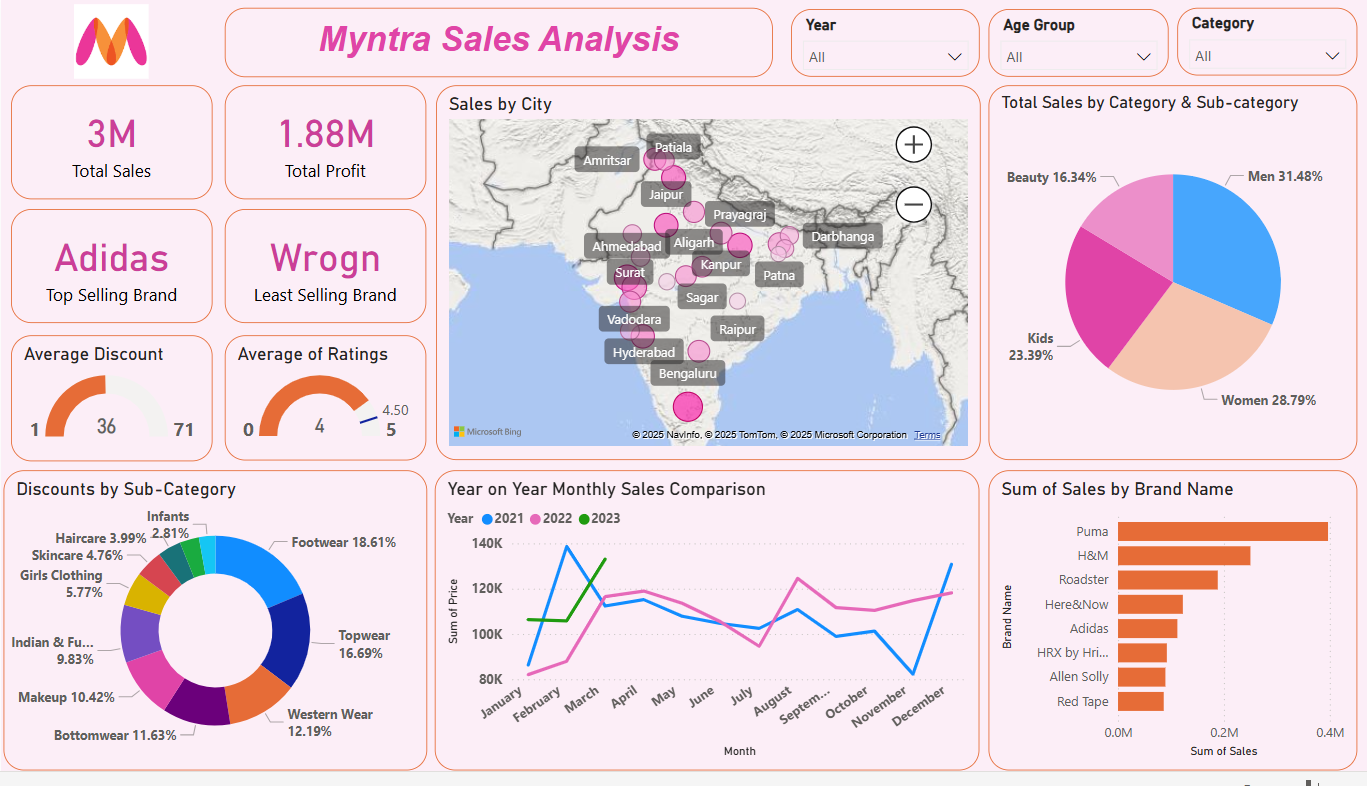

What the dashboard file says about the page in this screenshot:
{"tool":"powerbi","page":{"name":"Myntra Sales Analysis Dashboard","canvas":[1280,720],"ordinal":0},"visuals":[{"type":"image","box":[10.8,0,184.2,79.3],"z":0},{"type":"textbox","box":[208.4,8.1,511,64.6],"z":1000},{"type":"slicer","fields":{"Values":["Date.Year"]},"box":[737,9.4,176.2,63.2],"z":2000},{"type":"slicer","fields":{"Values":["Customers.Age Group"]},"box":[921.2,9.4,168.1,63.2],"z":3000},{"type":"cardVisual","fields":{"Data":["Sum(Orders.Price)"]},"box":[9.4,80.7,188.3,106.2],"z":4000},{"type":"cardVisual","fields":{"Data":["measures (2).Total Profit"]},"box":[208.4,80.7,188.3,106.2],"z":5000},{"type":"cardVisual","fields":{"Data":["Min(Products.Brand Name)"]},"box":[9.4,196.3,188.3,106.2],"z":6000},{"type":"cardVisual","fields":{"Data":["Max(Products.Brand Name)"]},"box":[208.4,196.3,188.3,106.2],"z":7000},{"type":"slicer","fields":{"Values":["Products.Category"]},"box":[1097.4,8.1,168.1,63.2],"z":8000},{"type":"pieChart","title":"Total Sales by Category & Sub-category","fields":{"Category":["Products.Category","Products.Sub-category"],"Y":["Sum(Orders.Price)"]},"box":[921.2,80.7,344.3,349.7],"z":9000},{"type":"gauge","fields":{"Y":["Avg(Products.Ratings)"]},"box":[208.4,313.3,188.3,117],"z":10000},{"type":"map","title":"Sales by City","fields":{"Category":["Customers.City"],"Size":["Sum(Orders.Price)"]},"box":[405.3,80.7,507.8,349.7],"z":11000},{"type":"donutChart","title":"Discounts by Sub-Category","fields":{"Category":["Products.Sub-category"],"Y":["Sum(Orders.Discount%)"]},"box":[2.7,439.8,395.4,279.7],"z":12000},{"type":"barChart","fields":{"Category":["Products.Brand Name","Products.Product Name"],"Y":["Sum(Orders.Price)"]},"box":[921.2,439.8,344.3,279.7],"z":13000},{"type":"lineChart","title":"Year on Year Monthly Sales Comparison","fields":{"Category":["Date.Date.Variation.Date Hierarchy.Year","Date.Date.Variation.Date Hierarchy.Month"],"Y":["Sum(Orders.Price)"],"Series":["Date.Date.Variation.Date Hierarchy.Year"]},"box":[404.8,439.8,508.3,279.7],"z":14000},{"type":"gauge","fields":{"Y":["measures (2).Average Discount"]},"box":[9.8,313,188.3,117.4],"z":15000}]}

Visuals, with their boxes in screenshot pixels (x1, y1, x2, y2), scaled from the page's 1280x720 canvas onto the 1367x786 screenshot:
image: <box>12,0,208,87</box>
textbox: <box>223,9,768,79</box>
slicer - Date.Year: <box>787,10,975,79</box>
slicer - Customers.Age Group: <box>984,10,1163,79</box>
cardVisual - Sum(Orders.Price): <box>10,88,211,204</box>
cardVisual - measures (2).Total Profit: <box>223,88,424,204</box>
cardVisual - Min(Products.Brand Name): <box>10,214,211,330</box>
cardVisual - Max(Products.Brand Name): <box>223,214,424,330</box>
slicer - Products.Category: <box>1172,9,1352,78</box>
"Total Sales by Category & Sub-category" pieChart: <box>984,88,1352,470</box>
gauge - Avg(Products.Ratings): <box>223,342,424,470</box>
"Sales by City" map: <box>433,88,975,470</box>
"Discounts by Sub-Category" donutChart: <box>3,480,425,785</box>
barChart - Products.Brand Name x Products.Product Name: <box>984,480,1352,785</box>
"Year on Year Monthly Sales Comparison" lineChart: <box>432,480,975,785</box>
gauge - measures (2).Average Discount: <box>10,342,212,470</box>
